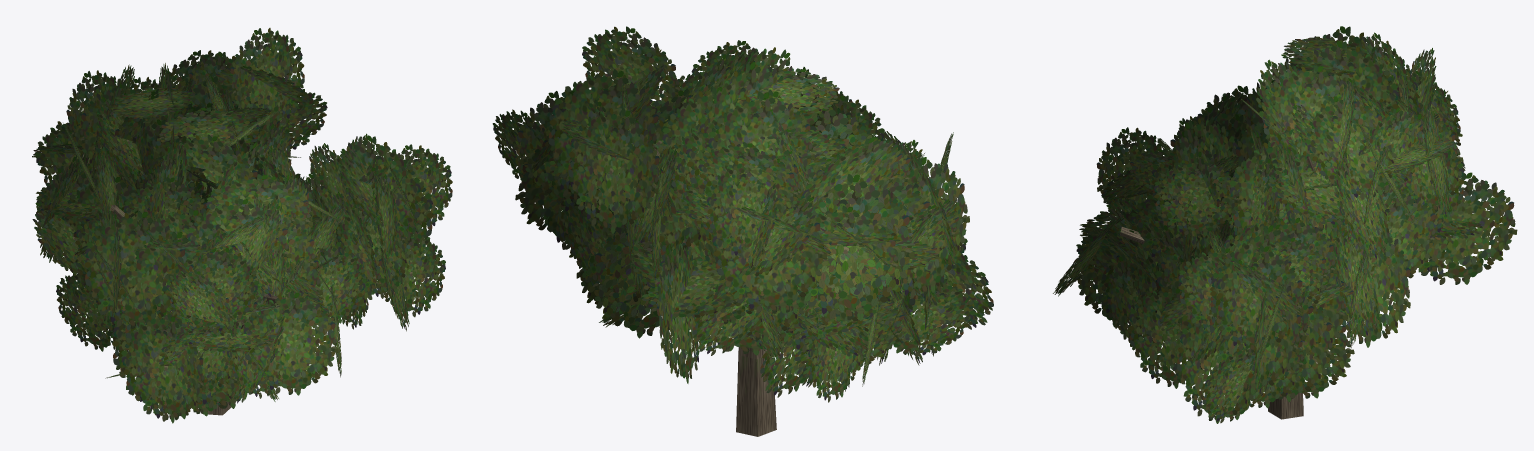
Rendered from Tree_Oak_Lone_1_LOD1.gltf.
3 views of the same model, side by side, from view 1: azimuth 30°, elevation 25°; view 2: azimuth 150°, elevation 25°; view 3: azimuth 270°, elevation 25° (orthographic). The views are drawn at different scales.
Visible parts, largest first — view 1: Tree_Oak_Lone_1_LOD1; view 2: Tree_Oak_Lone_1_LOD1; view 3: Tree_Oak_Lone_1_LOD1.
Part boxes in pixels (box(x1,y1,x2,y2)): Tree_Oak_Lone_1_LOD1: box(32, 28, 452, 423); Tree_Oak_Lone_1_LOD1: box(492, 26, 993, 436); Tree_Oak_Lone_1_LOD1: box(1053, 26, 1517, 423).
Bounding box in the file's own units: 16.96 × 13.59 × 15.94.
2 materials, 2 textured.
